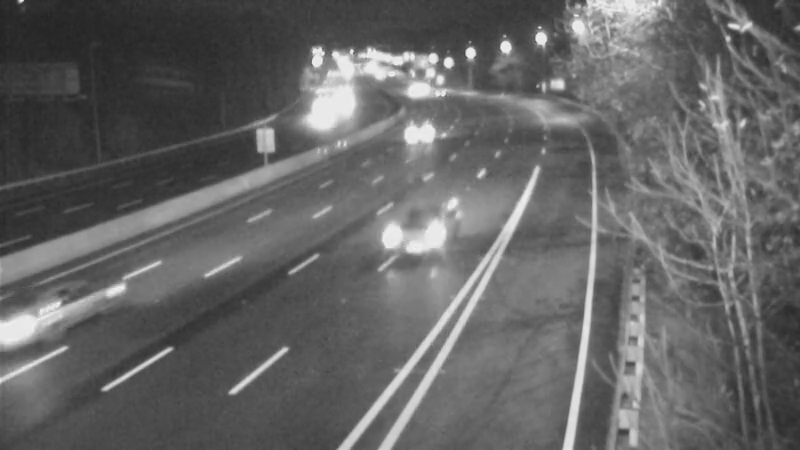vehicle: (1, 259, 97, 369), (377, 199, 457, 279), (393, 67, 443, 117), (415, 64, 465, 114), (384, 107, 434, 157)
